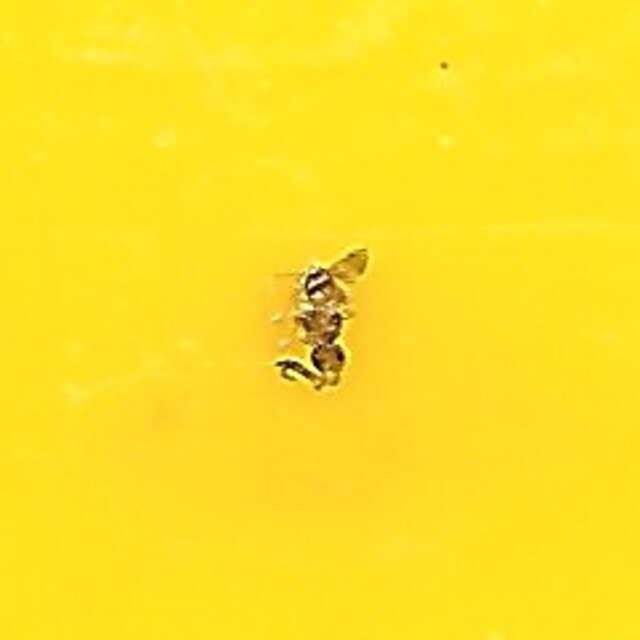Hymenoptera: (266, 244, 374, 396)
